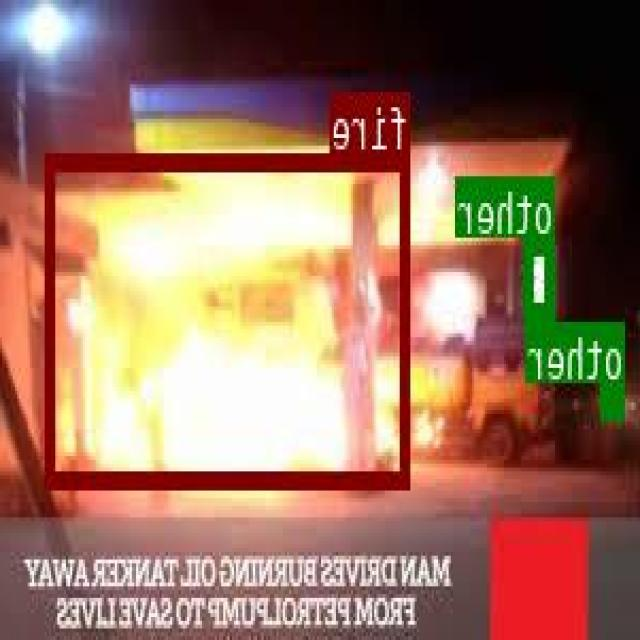fire: (48, 153, 412, 484)
other: (526, 237, 556, 317), (603, 383, 627, 414)
